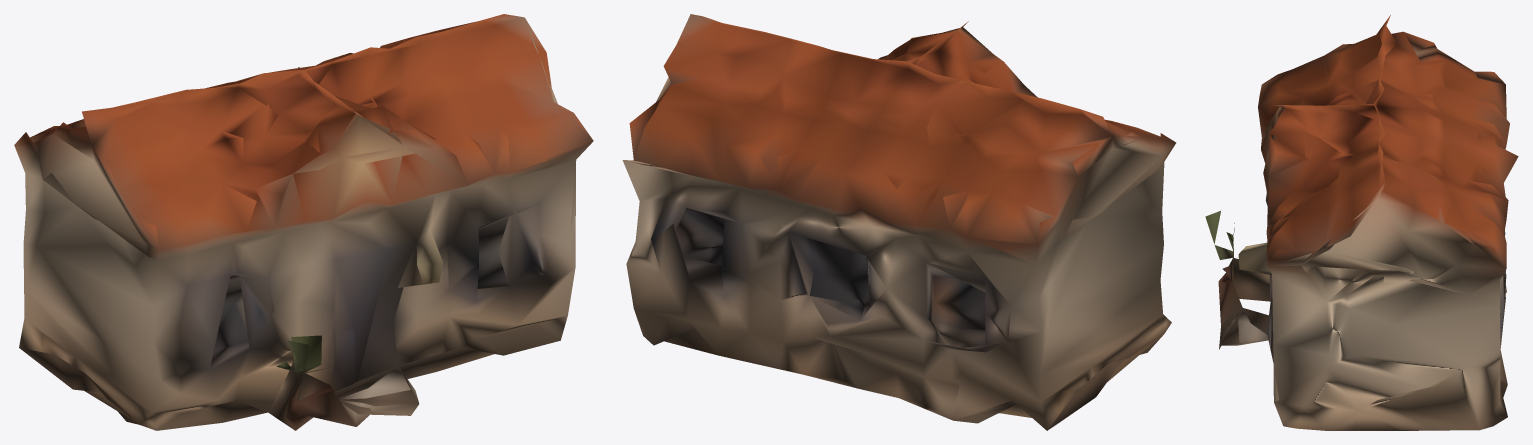
File: home_cottage_t1.trellis.glb
The picture shows the model from 3 angles, left to right: view 1: azimuth 30°, elevation 25°; view 2: azimuth 150°, elevation 25°; view 3: azimuth 270°, elevation 25°; orthographic projection. The views are drawn at different scales.
Visible parts, largest first — view 1: world; view 2: world; view 3: world.
Boxes of the visible parts, x1,y1,x2,y2 form: world: [14, 14, 593, 430]; world: [622, 14, 1176, 430]; world: [1205, 15, 1518, 430].
Bounding box in the file's own units: 6.59 × 4.04 × 4.74.
